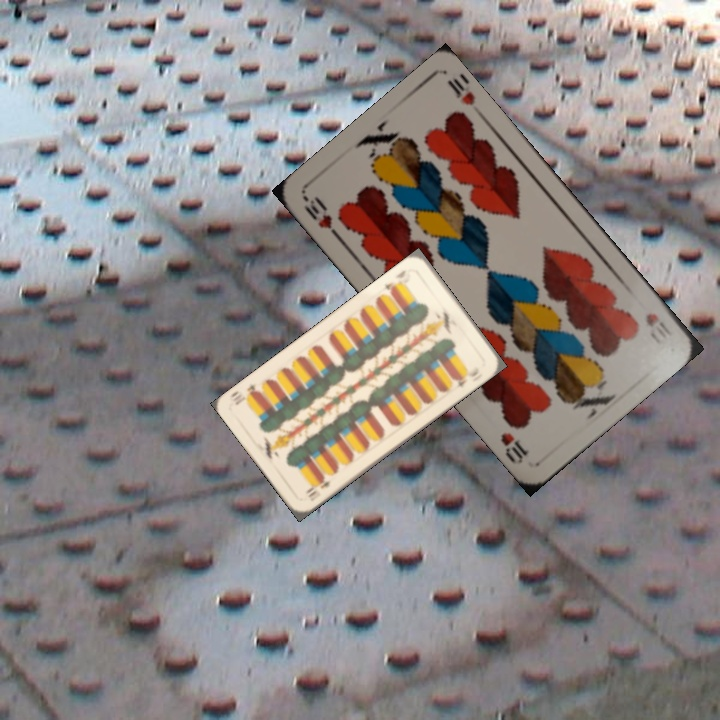E10: (380, 266, 409, 296), (302, 474, 333, 501)
H10: (299, 192, 344, 243), (641, 309, 675, 339)
